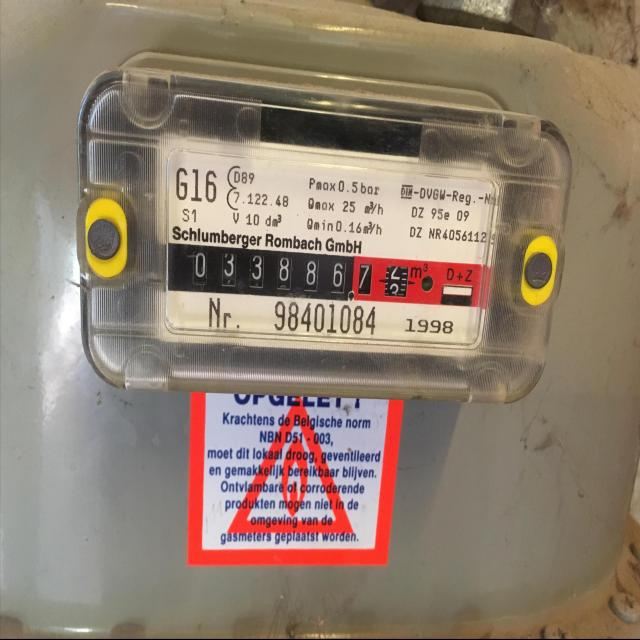gaz_meter: (166, 147, 501, 347)
indication: (187, 244, 412, 306)
